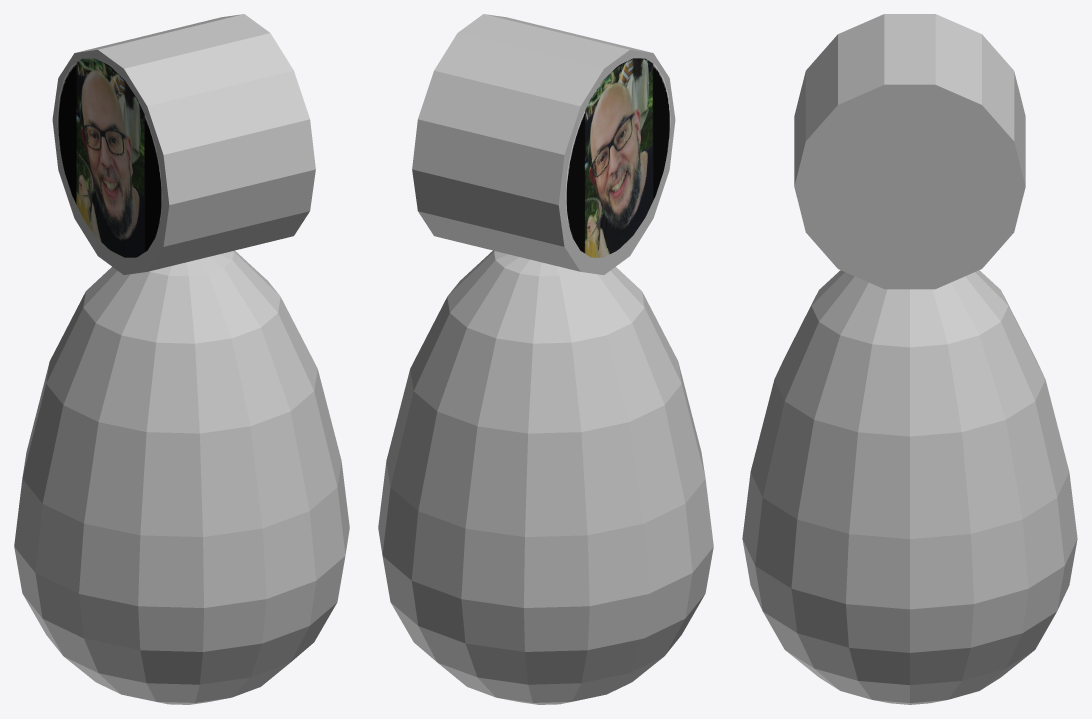
File: TeachersModel-Michel.obj
The picture shows the model from 3 angles, left to right: view 1: azimuth 30°, elevation 25°; view 2: azimuth 150°, elevation 25°; view 3: azimuth 270°, elevation 25°; orthographic projection.
Parts seen in each view (by area): view 1: Sphere, Cylinder, Michel; view 2: Sphere, Cylinder, Michel; view 3: Sphere, Cylinder.
Boxes of the visible parts, x1,y1,x2,y2 form: Sphere: (14, 250, 349, 704); Cylinder: (52, 14, 315, 274); Michel: (57, 58, 162, 257); Sphere: (378, 250, 713, 704); Cylinder: (412, 14, 675, 274); Michel: (565, 58, 670, 257); Sphere: (742, 270, 1077, 704); Cylinder: (794, 14, 1025, 289).
Size of the model in its own units: 2 by 4.23 by 2.
